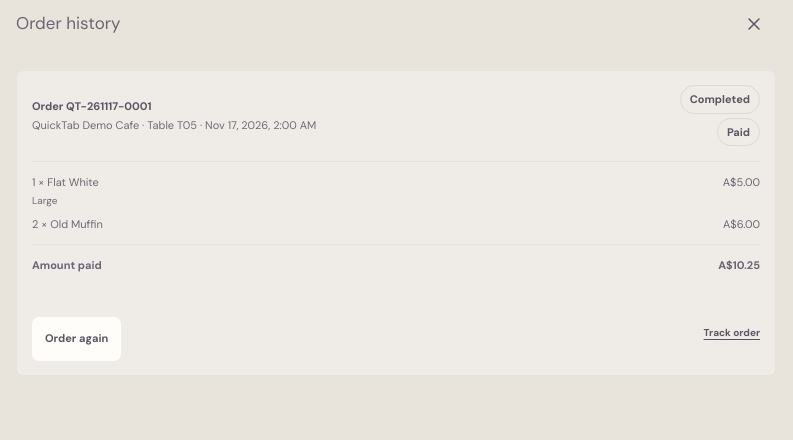
Test: OrdersScreen reorder › shows a loading label and an error when the menu cannot be fetched
Later steps or results of the test are not shown.
Check: the text "Order QT-261117-0001" is shown, box [32, 98, 152, 112]
Click the button "Order again": coordinates (77, 338) [32, 316, 121, 360]
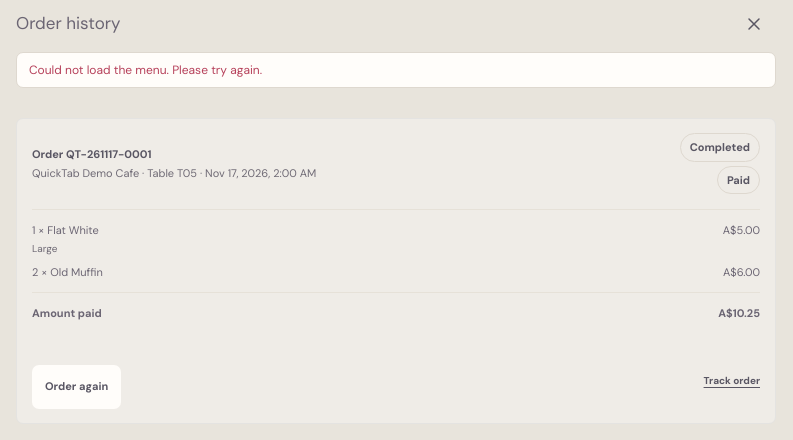
Check: the button "Order again" is enabled, box [32, 364, 121, 408]
Check: the message reads "Could not load the menu. Please try again.", box [29, 62, 262, 78]
